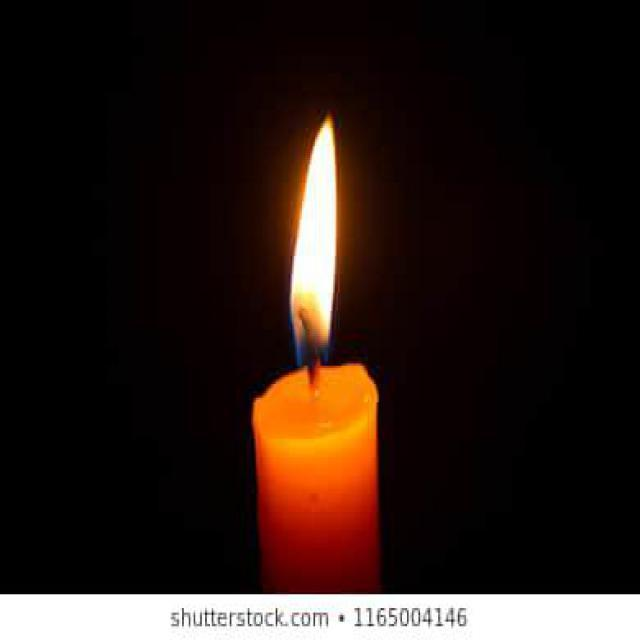Fire: (290, 116, 338, 368)
